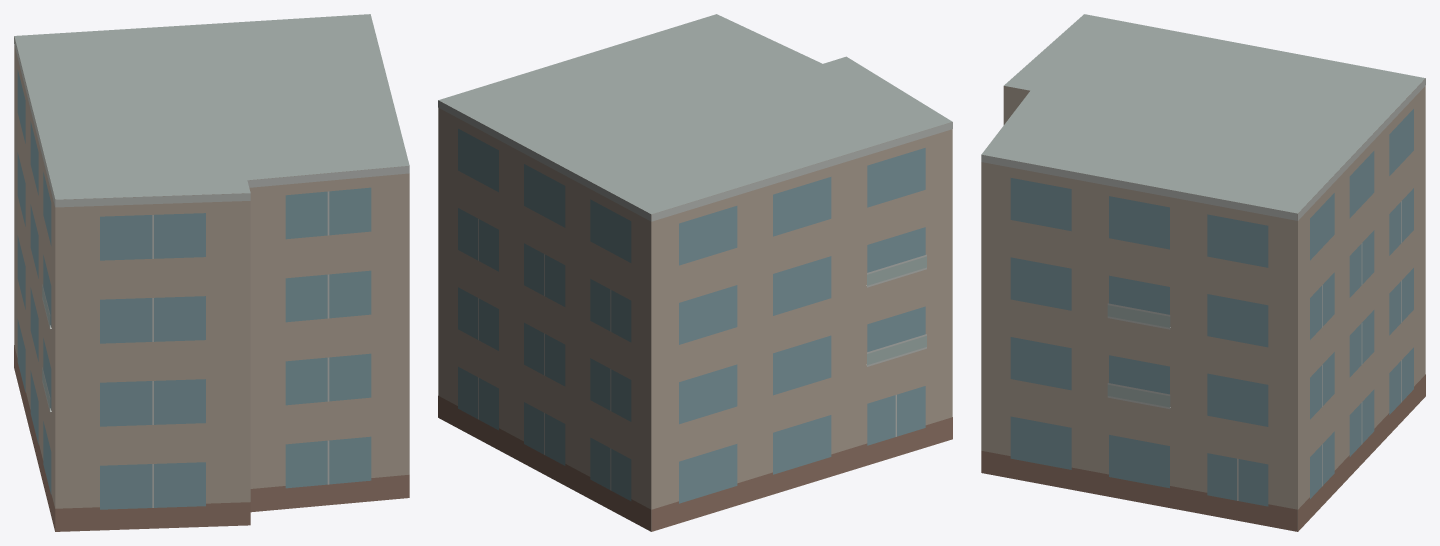
Rendered from survey-upis-32520804.glb.
The picture shows the model from 3 angles, left to right: view 1: azimuth 30°, elevation 25°; view 2: azimuth 150°, elevation 25°; view 3: azimuth 270°, elevation 25°; orthographic projection. The views are drawn at different scales.
Parts seen in each view (by area): view 1: survey-upis-32520804.tmp; view 2: survey-upis-32520804.tmp; view 3: survey-upis-32520804.tmp.
Part boxes in pixels (x1,y1,x2,y2): survey-upis-32520804.tmp: [14, 14, 409, 531]; survey-upis-32520804.tmp: [438, 14, 952, 531]; survey-upis-32520804.tmp: [981, 14, 1425, 531].
Size of the model in its own units: 14.13 by 10.5 by 13.3.
